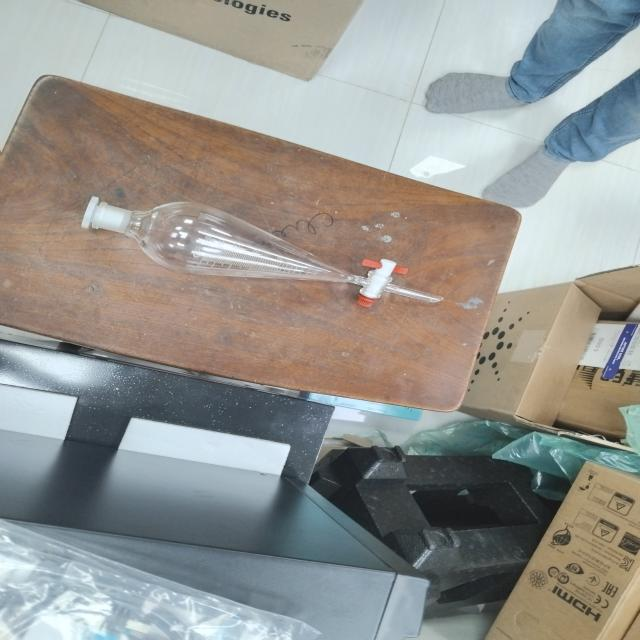Separating_Funnel: (59, 177, 485, 340)
